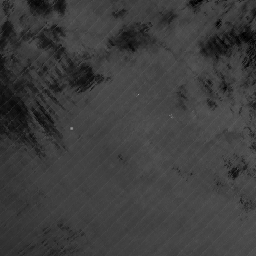Target: (68, 126, 74, 131)
